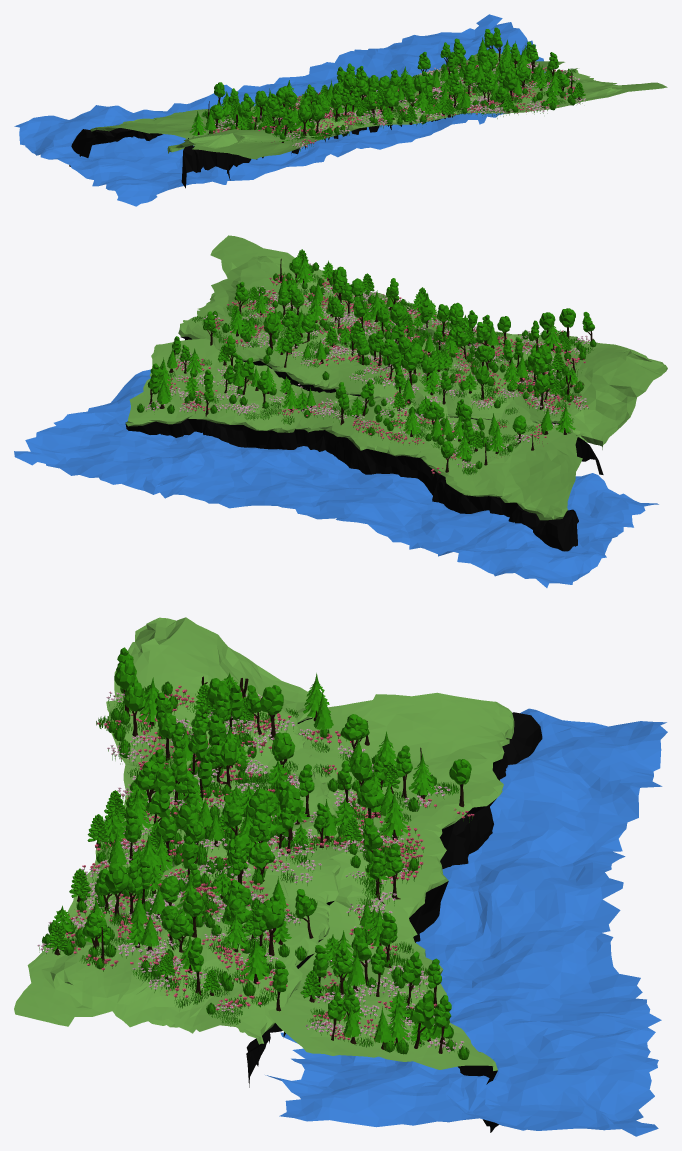
Rendered from low_poly_treesNXT_5flat.fbx.
The picture shows the model from 3 angles, top to bottom: view 1: azimuth 30°, elevation 25°; view 2: azimuth 150°, elevation 25°; view 3: azimuth 270°, elevation 25°; orthographic projection. The views are drawn at different scales.
Visible parts, largest first — view 1: water, all, grnd, slope; view 2: grnd, all, water, slope; view 3: all, water, grnd, slope.
Boxes of the visible parts, bbox=[...] form: water: bbox=[14, 14, 545, 206]; all: bbox=[189, 27, 585, 151]; grnd: bbox=[90, 53, 667, 159]; slope: bbox=[69, 116, 453, 188]; grnd: bbox=[125, 235, 667, 520]; all: bbox=[137, 249, 596, 475]; water: bbox=[14, 369, 658, 587]; slope: bbox=[125, 336, 603, 551]; all: bbox=[37, 647, 474, 1059]; water: bbox=[265, 708, 667, 1136]; grnd: bbox=[14, 617, 514, 1070]; slope: bbox=[246, 712, 542, 1132].
Size of the model in its own units: 10608 by 2753 by 6956.
